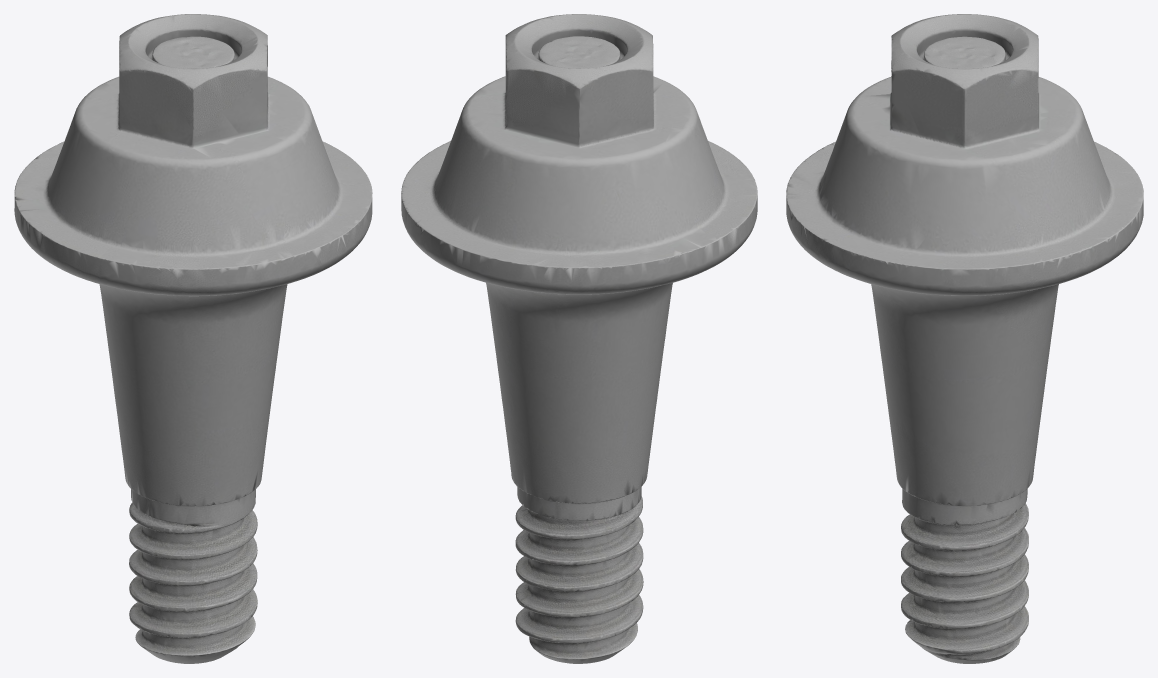
The model's file is mini-pilar-reto-web.glb.
The picture shows the model from 3 angles, left to right: view 1: azimuth 30°, elevation 25°; view 2: azimuth 150°, elevation 25°; view 3: azimuth 270°, elevation 25°; orthographic projection.
Parts seen in each view (by area): view 1: mesh_node; view 2: mesh_node; view 3: mesh_node.
Part boxes in pixels (x1,y1,x2,y2): mesh_node: (14,14,372,663); mesh_node: (401,14,757,663); mesh_node: (786,14,1143,663).
Bounding box in the file's own units: 1.01 × 1.9 × 1.02.
1 material, 1 textured.
